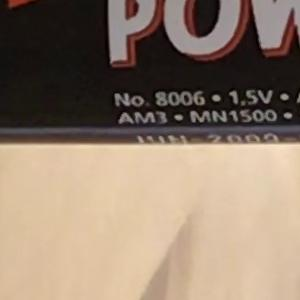1,5V: (220, 81, 282, 113)
